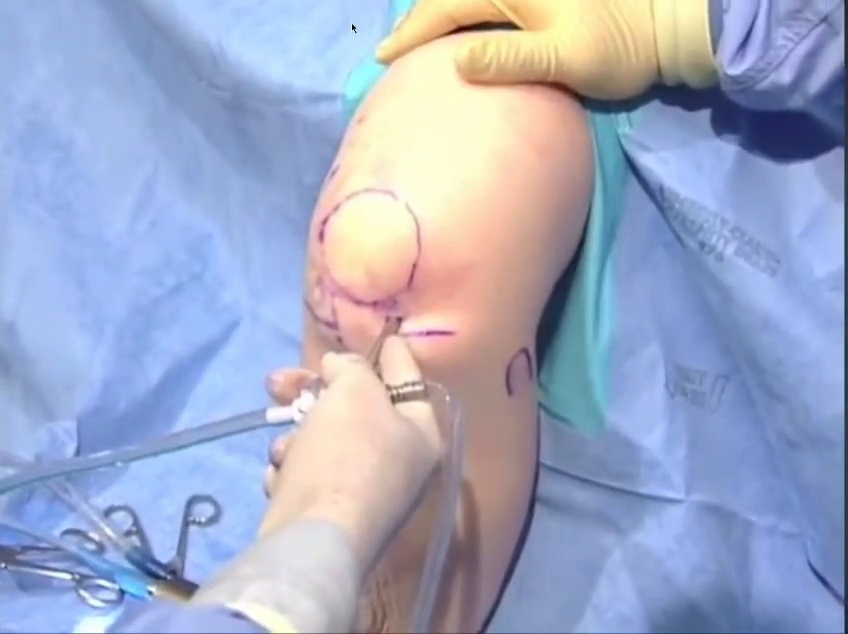arthroscope: (424, 15, 752, 634), (145, 144, 402, 502)
probe: (736, 138, 848, 634), (591, 0, 848, 114), (23, 280, 98, 437), (98, 135, 170, 235)
